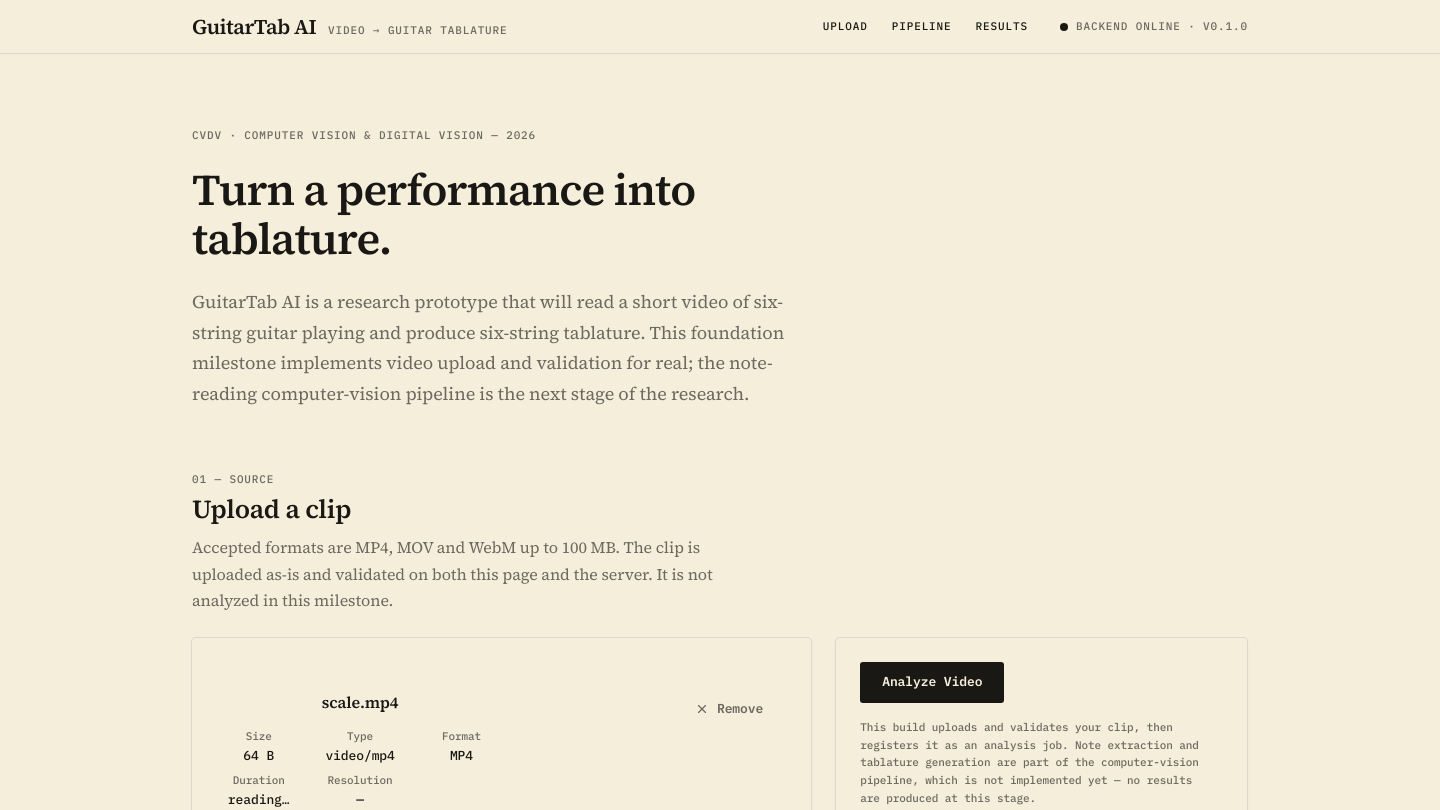
Scenario: HomePage — upload lifecycle › supports cancelling an in-flight upload
Earlier steps of the test are not shown.
Expected: the text "Backend online · v0.1.0" is shown, [1076, 21, 1248, 32]
Click the button "Analyze Video": (932, 683) [860, 662, 1004, 703]
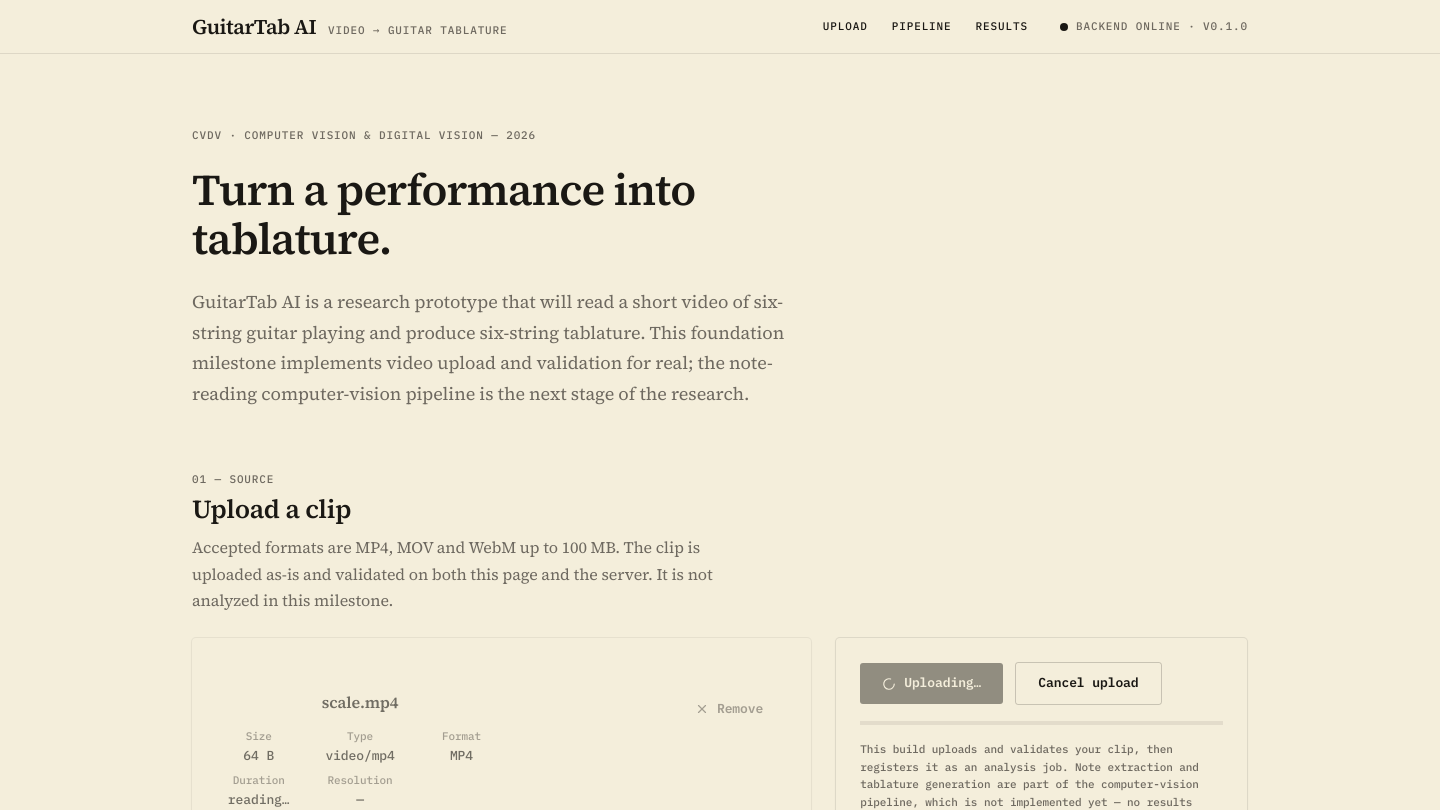
Click the button "Cancel upload": (1088, 684) [1015, 662, 1162, 705]
(page scrolled)
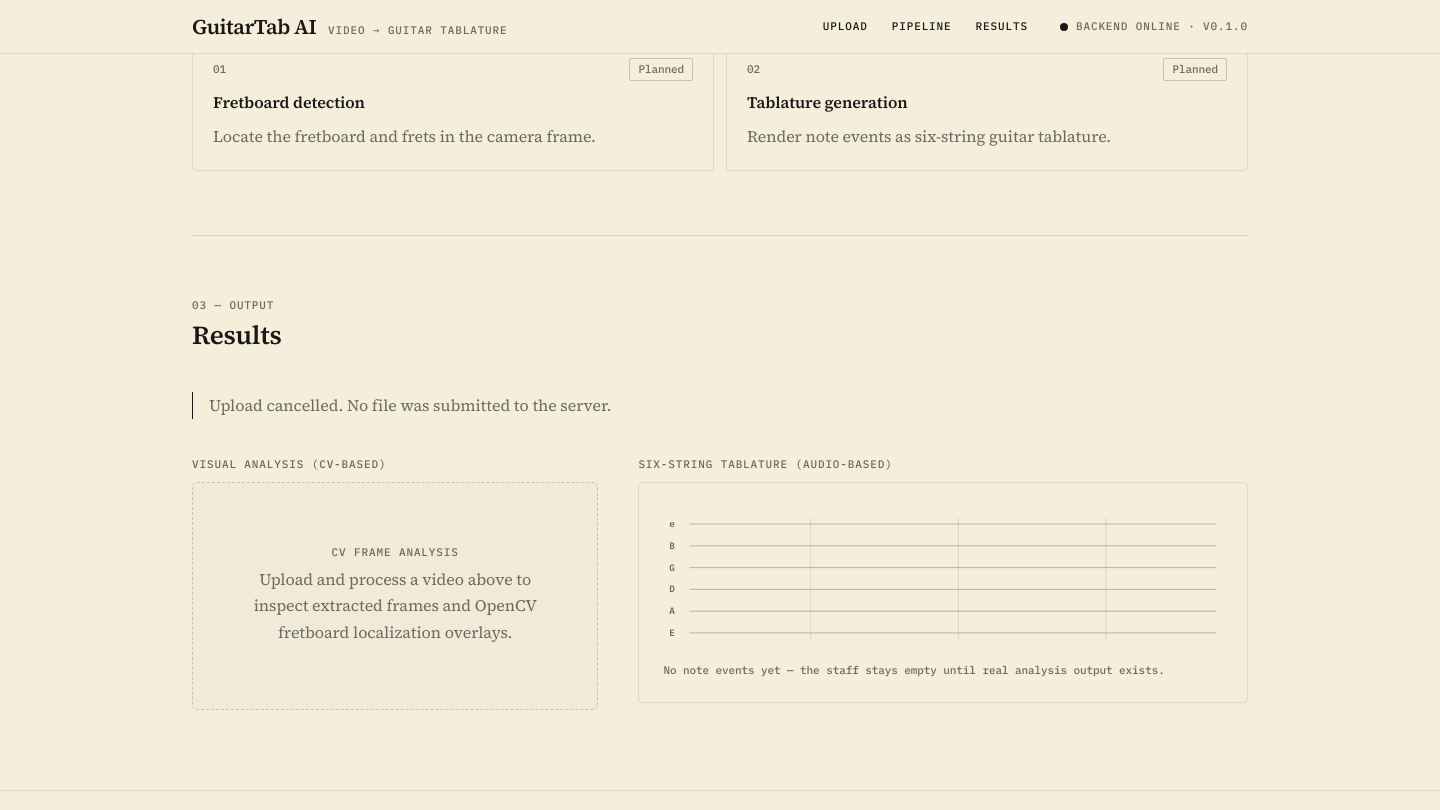
Expected: the text "Upload cancelled. No file was submitted to the server." is shown, [192, 392, 717, 419]
